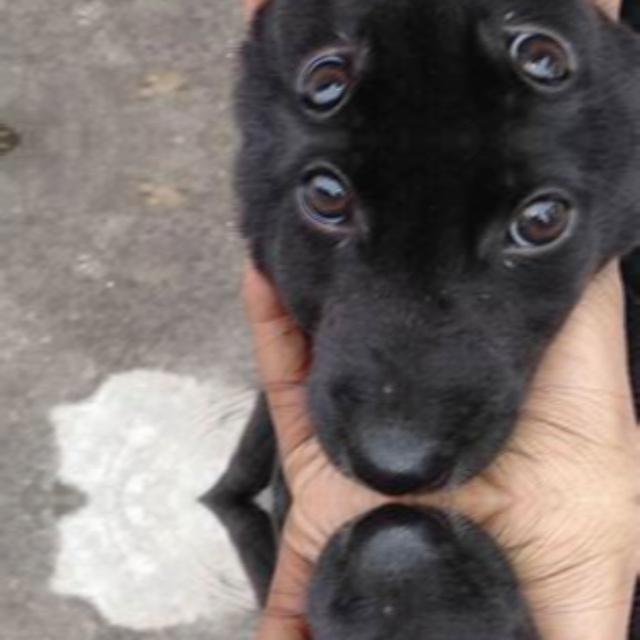dog: (268, 138, 606, 440), (268, 0, 606, 139), (268, 558, 606, 640)
